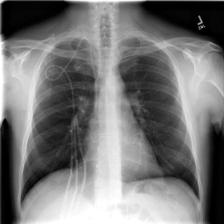normal: (16, 30, 204, 213)
